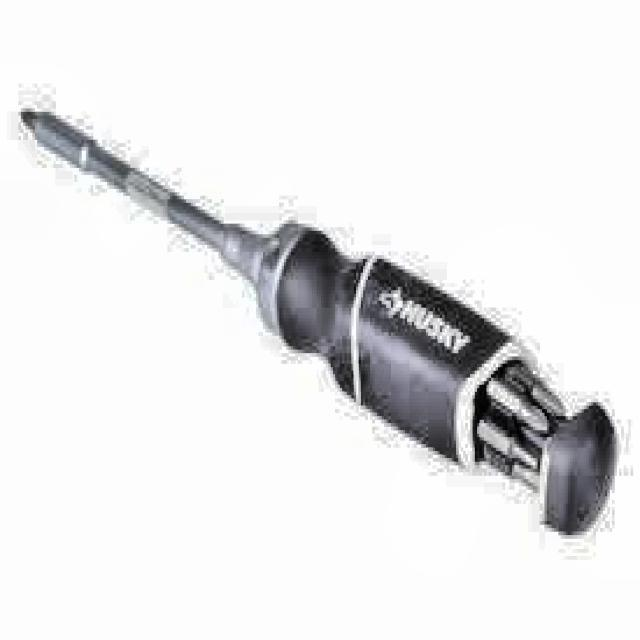screwdriver: (21, 109, 618, 537)
